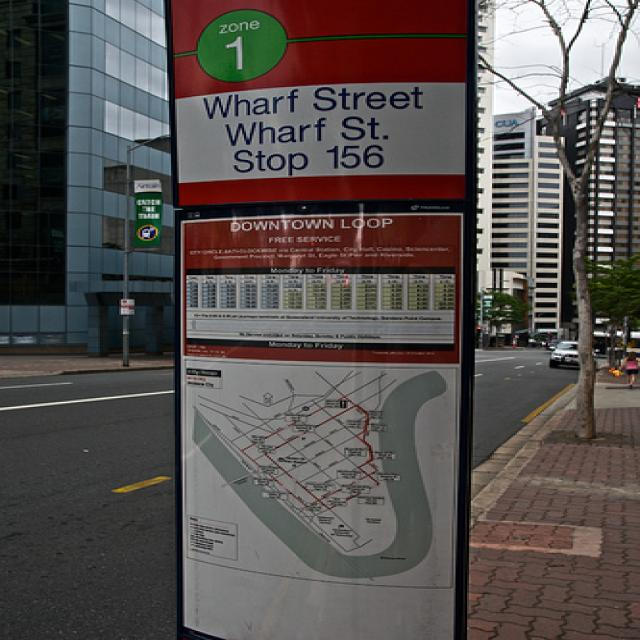Vehicle: (548, 341, 580, 369), (548, 341, 580, 368), (528, 335, 548, 347)
